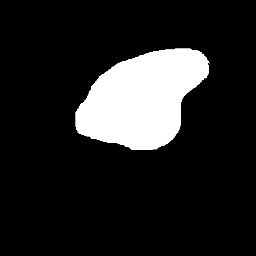mass: (77, 49, 206, 149)
